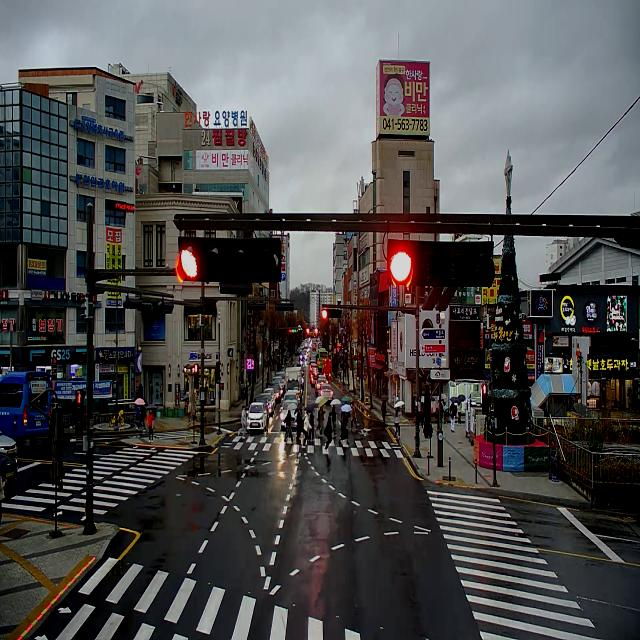Bus: (0, 372, 51, 441)
Car: (0, 451, 18, 483), (247, 402, 267, 429), (0, 429, 17, 458), (280, 401, 298, 427), (254, 396, 269, 418), (260, 393, 274, 413), (317, 384, 333, 401), (268, 383, 281, 402), (264, 388, 276, 407), (272, 376, 284, 395), (317, 348, 328, 368), (322, 358, 332, 378), (315, 379, 328, 393), (276, 372, 286, 388), (283, 393, 298, 403), (312, 374, 320, 386), (300, 352, 307, 360), (300, 377, 304, 390), (318, 375, 327, 379), (312, 342, 316, 351)
Truck: (286, 367, 302, 399)
